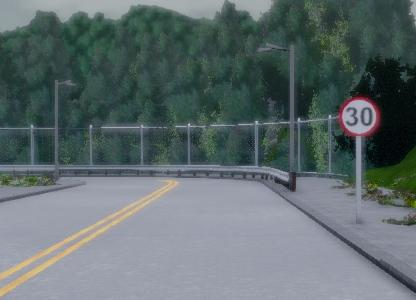Speed_30: (338, 92, 381, 141)
